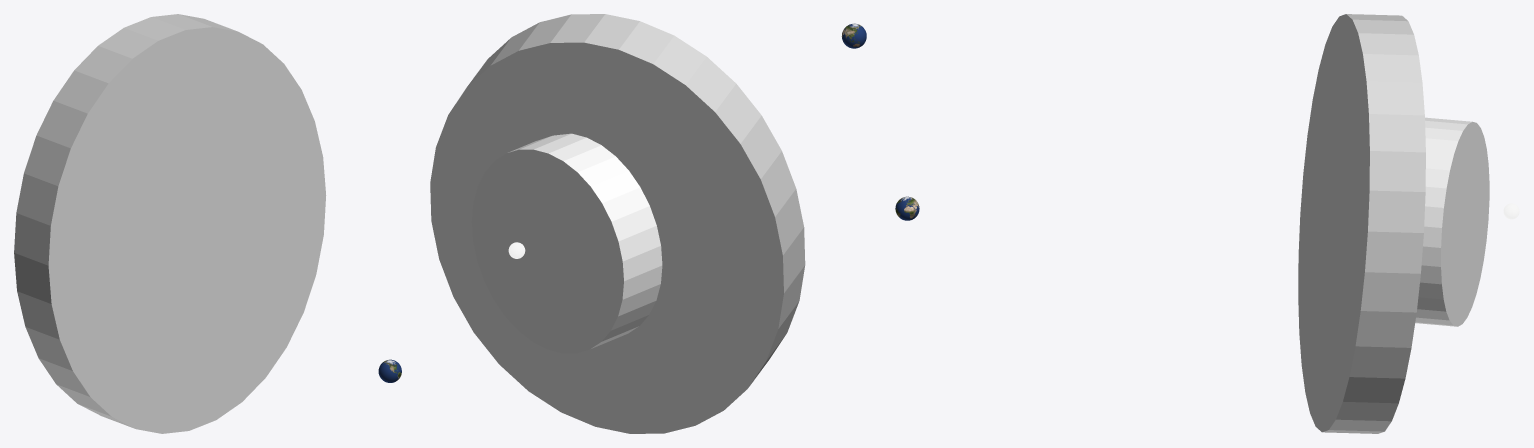
The model's file is DSH.glb.
3 views of the same model, side by side, from view 1: azimuth 30°, elevation 25°; view 2: azimuth 150°, elevation 25°; view 3: azimuth 270°, elevation 25° (orthographic). The views are drawn at different scales.
Parts seen in each view (by area): view 1: Cylinder.001, Sphere; view 2: Cylinder.001, Cylinder, Sphere; view 3: Cylinder.001, Cylinder.
Part boxes in pixels (box(x1,y1,x2,y2)): Cylinder.001: box(14, 14, 326, 433); Sphere: box(378, 359, 401, 382); Cylinder.001: box(430, 14, 805, 433); Cylinder: box(471, 133, 662, 353); Sphere: box(841, 23, 866, 48); Cylinder.001: box(1298, 14, 1425, 433); Cylinder: box(1415, 117, 1489, 326).
Bounding box in the file's own units: 30.6 × 36.13 × 51.71.
Materials: 4 (1 with a texture image).
